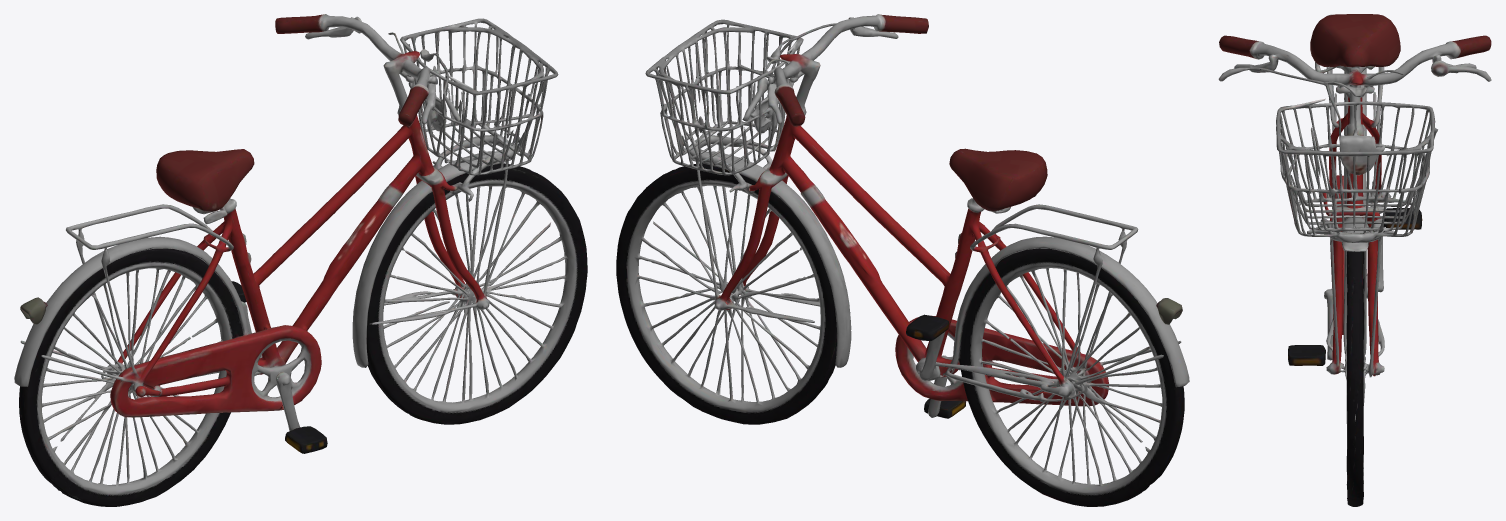
File: bike.glb
The picture shows the model from 3 angles, left to right: view 1: azimuth 30°, elevation 25°; view 2: azimuth 150°, elevation 25°; view 3: azimuth 270°, elevation 25°; orthographic projection.
Parts seen in each view (by area): view 1: bike; view 2: bike; view 3: bike.
Part boxes in pixels (box(x1,y1,x2,y2)): bike: box(14, 14, 587, 506); bike: box(616, 14, 1189, 506); bike: box(1218, 14, 1491, 506).
Bounding box in the file's own units: 1.8 × 1.2 × 0.7334.
1 material, 1 textured.
